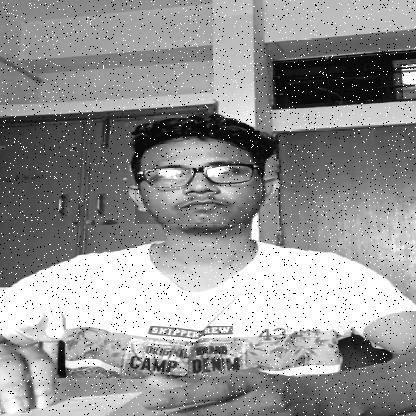Normal: (135, 130, 260, 224)
